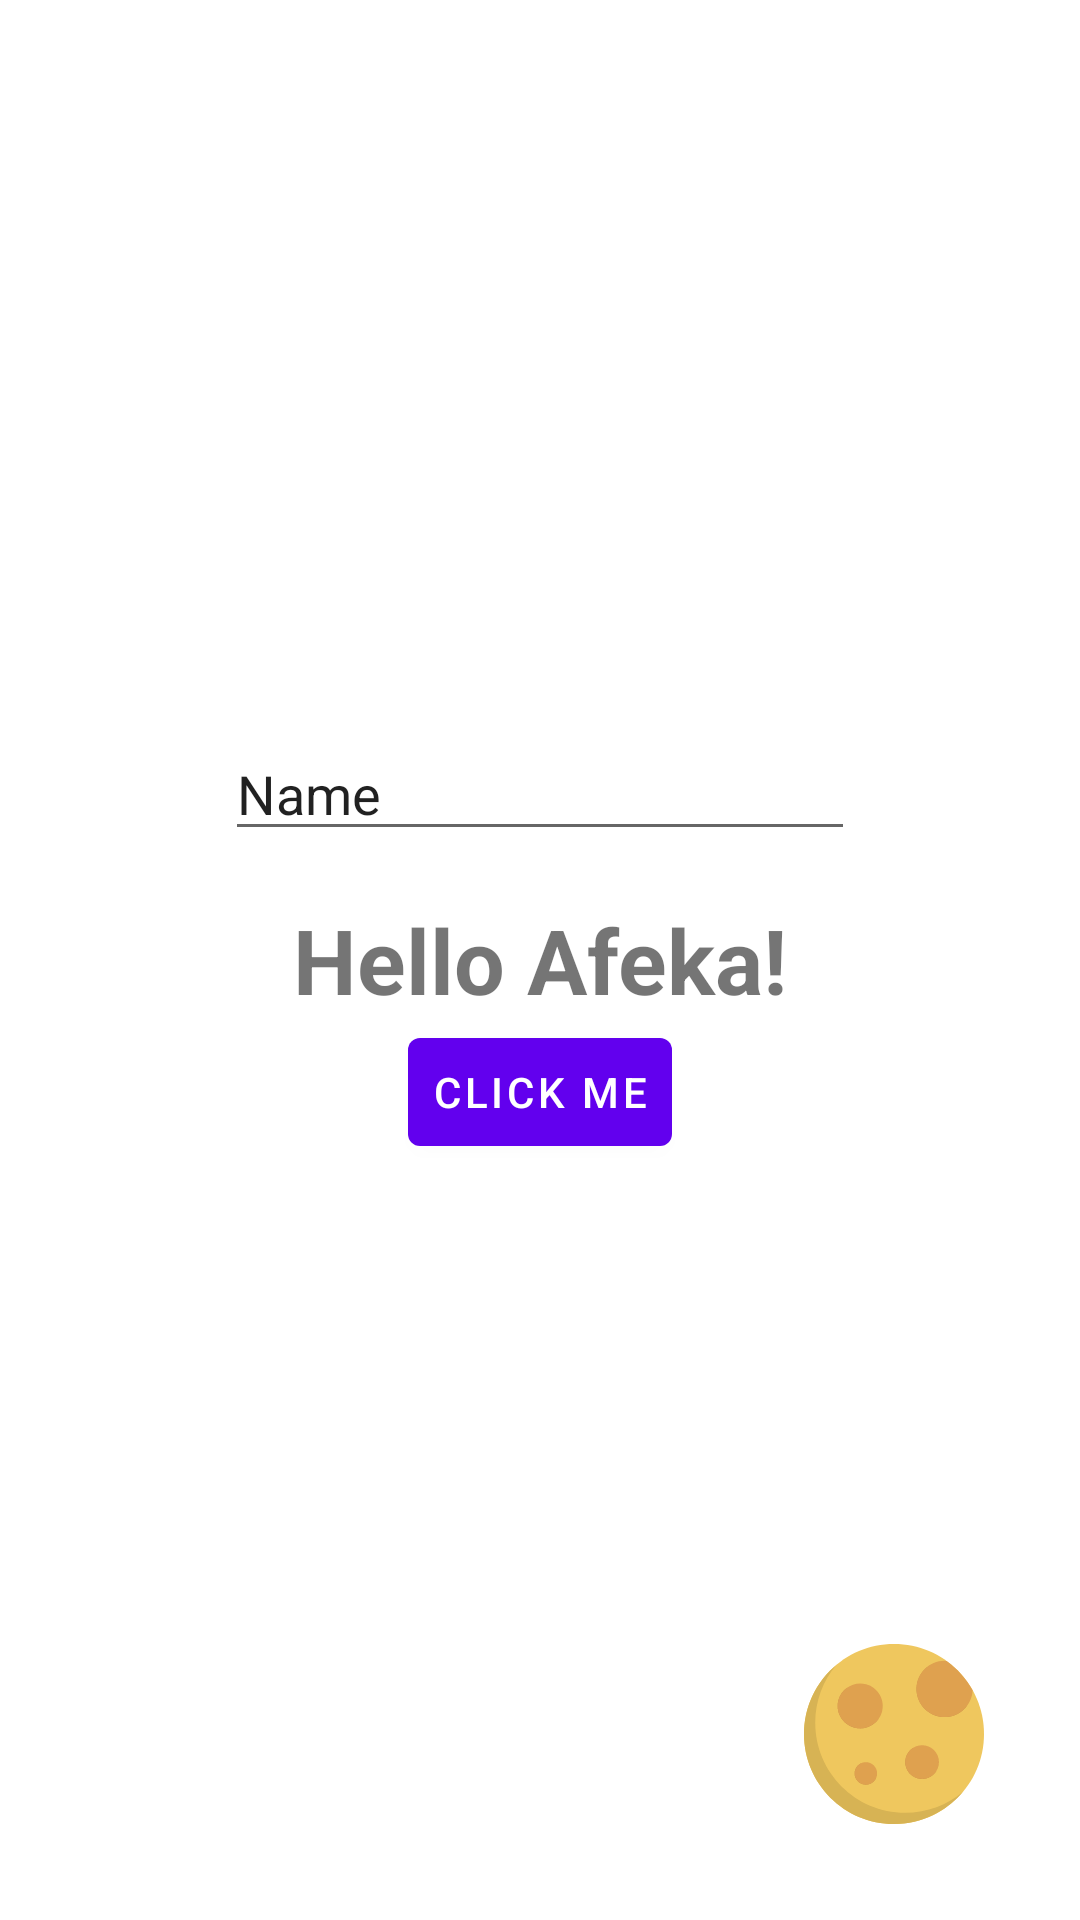

Icon bounding boxes for this 1080*1920 phone screenshot, format box(x1, y1, x2, y2):
moon: box(804, 1644, 984, 1824)
